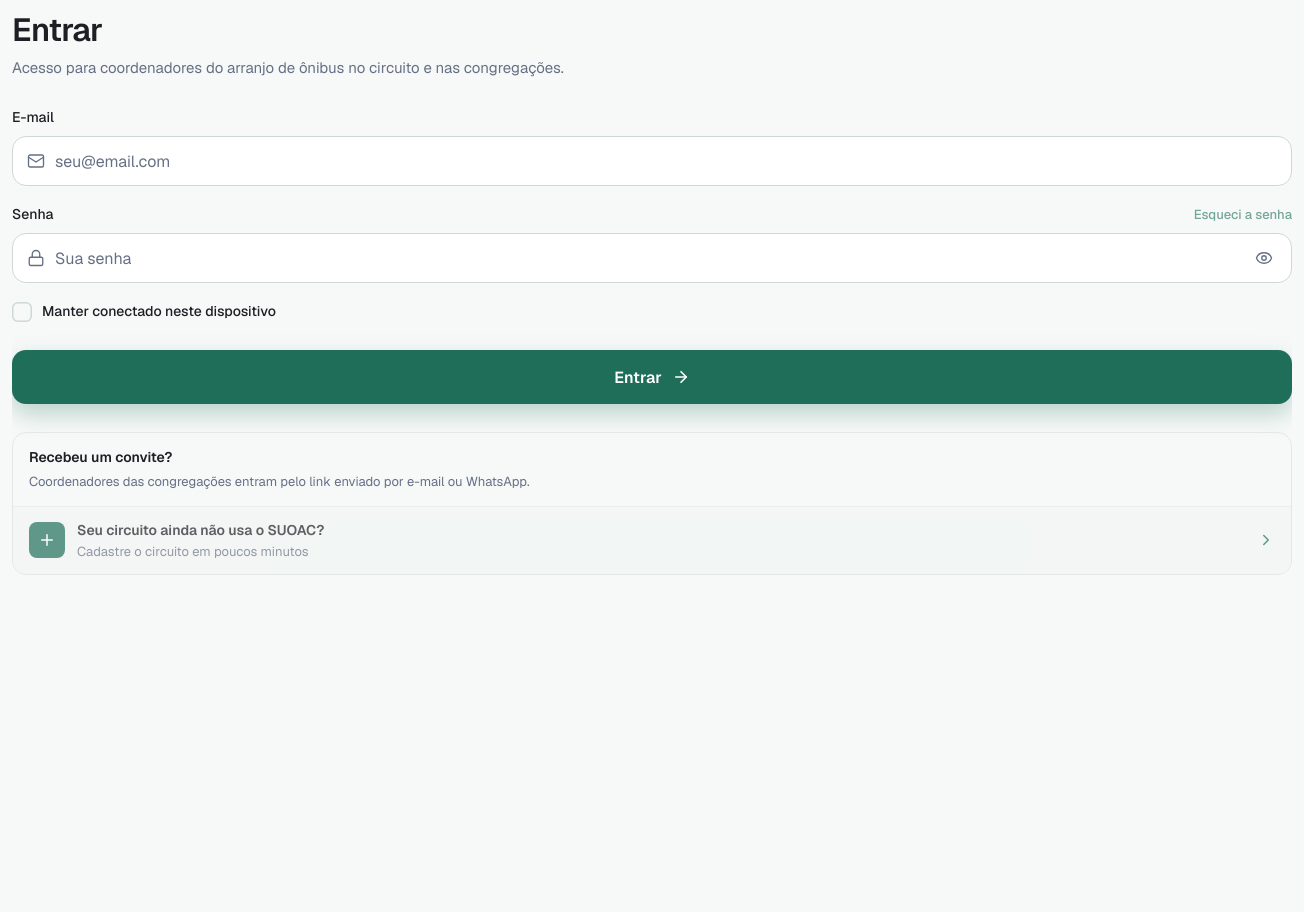
Test: SignInForm › explica credencial inválida sem tirar o usuário da tela
The image size is (1304, 912).
Type "coordenador@circuito.org" into the field labelled "E-mail" at x=669, y=161, box x1=55 y1=137 x2=1283 y2=185
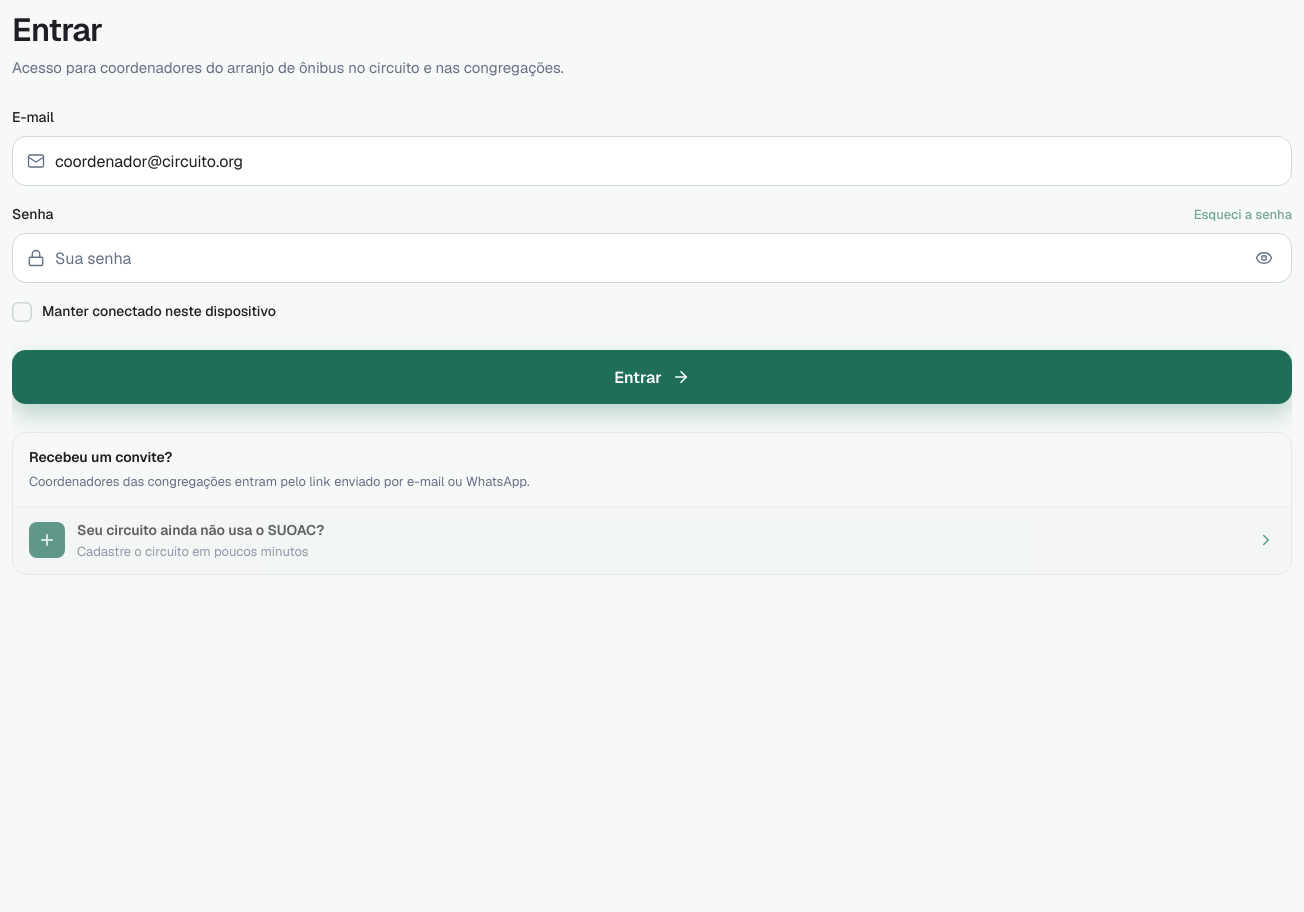
Type "senha-correta" into the password field labelled "Senha" at x=645, y=258, box x1=55 y1=234 x2=1235 y2=282
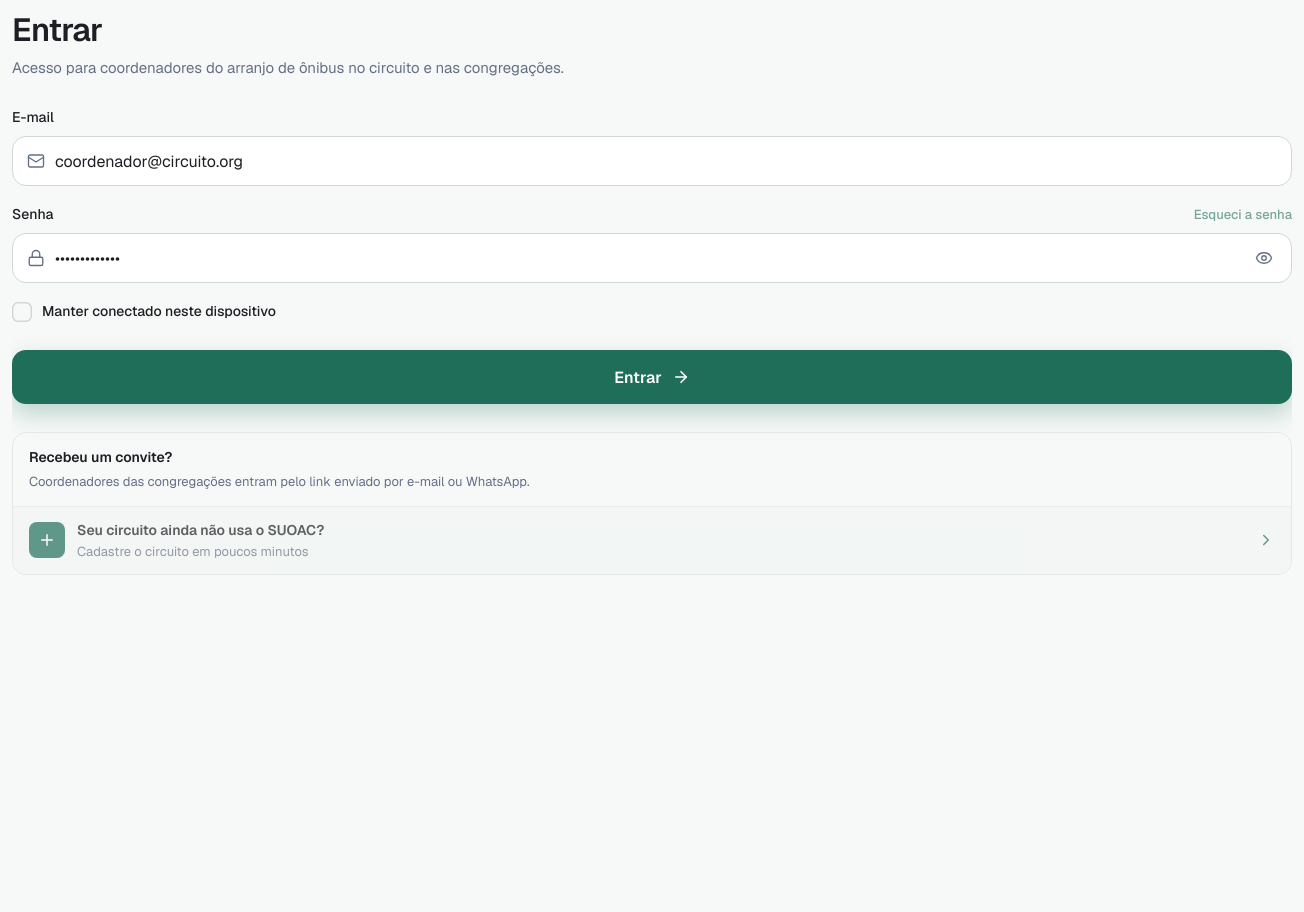
Click the button "Entrar" at x=652, y=377, box x1=12 y1=350 x2=1292 y2=404
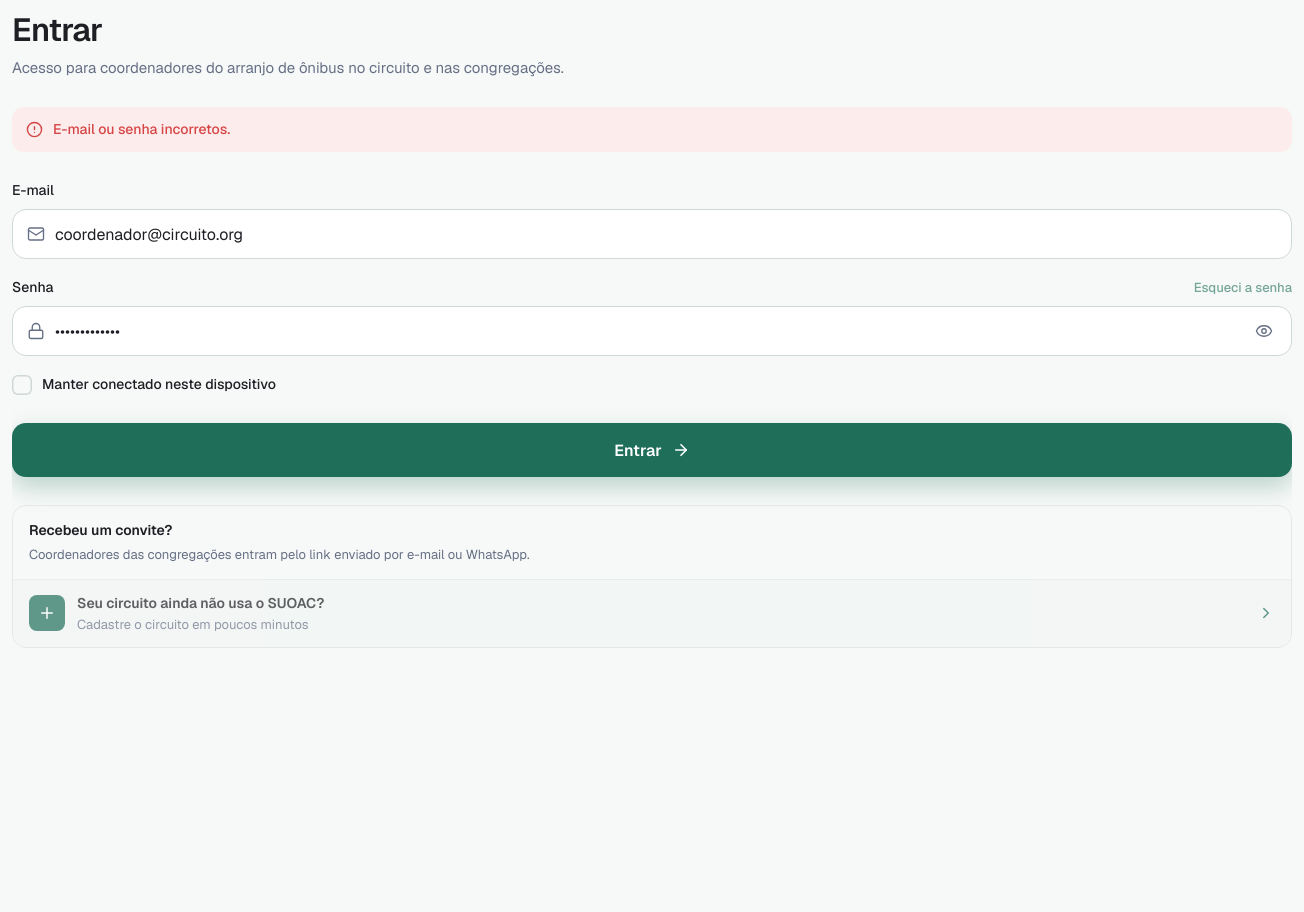
Expected: the button "Entrar" is enabled, x1=12 y1=423 x2=1292 y2=477
Now the message reads "E-mail ou senha incorretos.", box x1=53 y1=120 x2=230 y2=138
